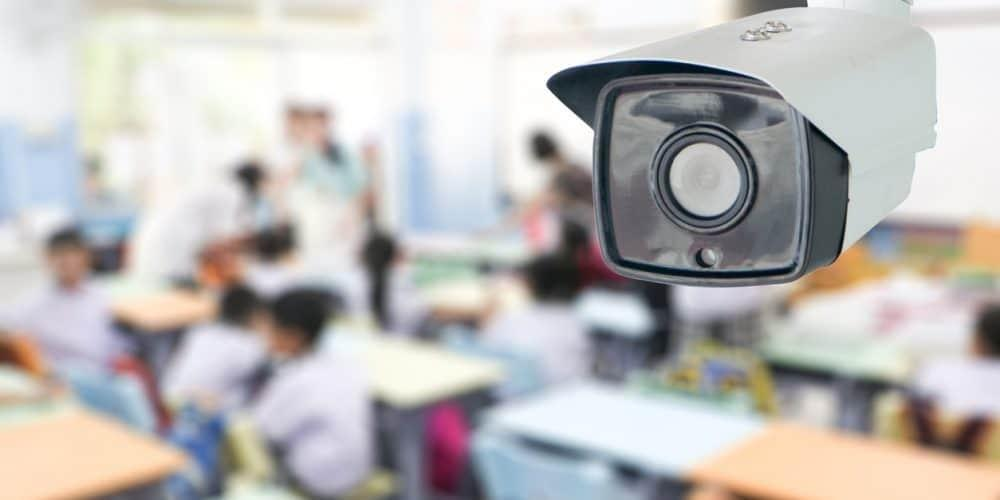CCTV: (549, 2, 939, 285)
